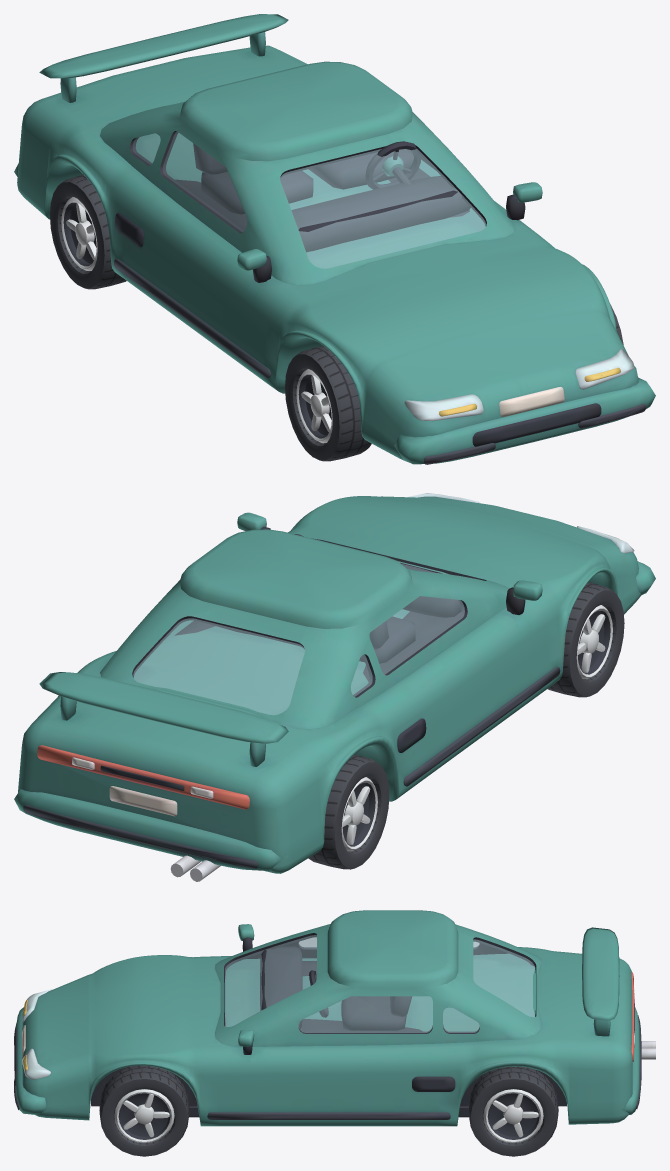
The model's file is 1990s-sports-car.glb.
3 renders of one model, top to bottom at view 1: azimuth 30°, elevation 25°; view 2: azimuth 150°, elevation 25°; view 3: azimuth 270°, elevation 25°, orthographic. The views are drawn at different scales.
Parts seen in each view (by area): view 1: 1990s-sports-car_body, 1990s-sports-car_windows, 1990s-sports-car_wheel_fr, 1990s-sports-car_wheel_rr; view 2: 1990s-sports-car_body, 1990s-sports-car_windows, 1990s-sports-car_wheel_rr, 1990s-sports-car_wheel_fr; view 3: 1990s-sports-car_body, 1990s-sports-car_windows, 1990s-sports-car_wheel_fl, 1990s-sports-car_wheel_rl.
Boxes of the visible parts, bbox=[...] form: 1990s-sports-car_body: bbox=[14, 14, 655, 464]; 1990s-sports-car_windows: bbox=[133, 131, 485, 268]; 1990s-sports-car_wheel_fr: bbox=[285, 346, 371, 461]; 1990s-sports-car_wheel_rr: bbox=[50, 174, 126, 289]; 1990s-sports-car_body: bbox=[14, 493, 655, 881]; 1990s-sports-car_windows: bbox=[133, 562, 464, 714]; 1990s-sports-car_wheel_rr: bbox=[308, 754, 389, 869]; 1990s-sports-car_wheel_fr: bbox=[548, 582, 624, 697]; 1990s-sports-car_body: bbox=[14, 910, 655, 1126]; 1990s-sports-car_windows: bbox=[225, 935, 534, 1032]; 1990s-sports-car_wheel_fl: bbox=[99, 1065, 189, 1156]; 1990s-sports-car_wheel_rl: bbox=[468, 1066, 558, 1156].
Size of the model in its own units: 1.88 by 1.23 by 4.42.
6 materials, 2 textured.
